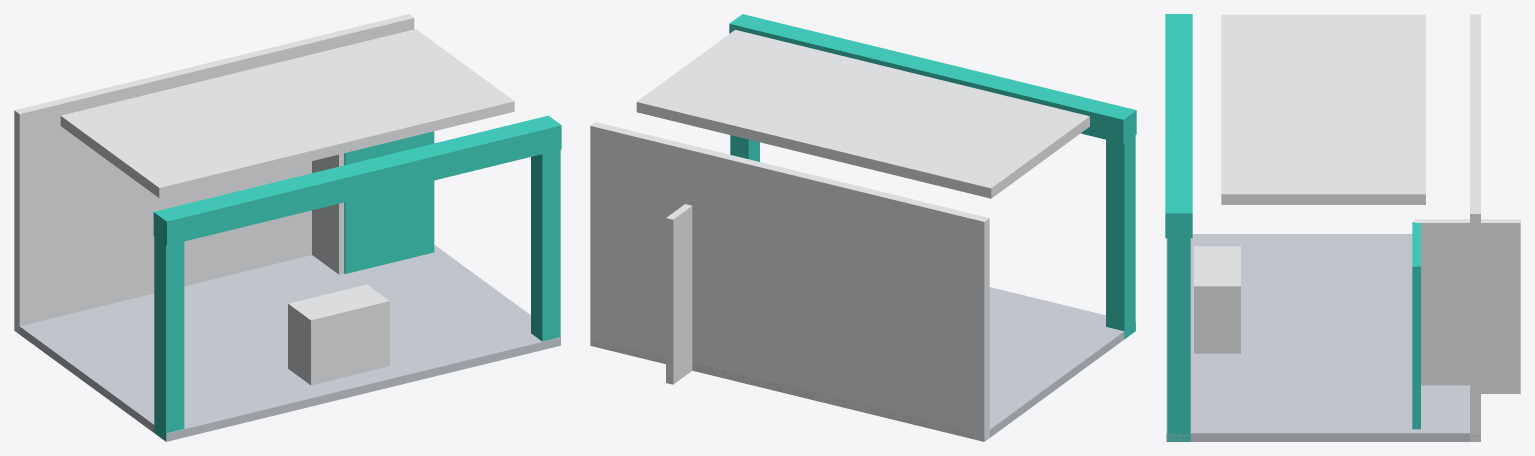
The picture shows the model from 3 angles, left to right: view 1: azimuth 30°, elevation 25°; view 2: azimuth 150°, elevation 25°; view 3: azimuth 270°, elevation 25°; orthographic projection. The views are drawn at different scales.
Parts seen in each view (by area): view 1: Exhibition Booth Concept; view 2: Exhibition Booth Concept; view 3: Exhibition Booth Concept.
Boxes of the visible parts, left/top/right/bottom form: Exhibition Booth Concept: left=14, top=14, right=561, bottom=441; Exhibition Booth Concept: left=590, top=14, right=1136, bottom=441; Exhibition Booth Concept: left=1165, top=14, right=1520, bottom=441.
Bounding box in the file's own units: 6 × 3.34 × 4.52.
